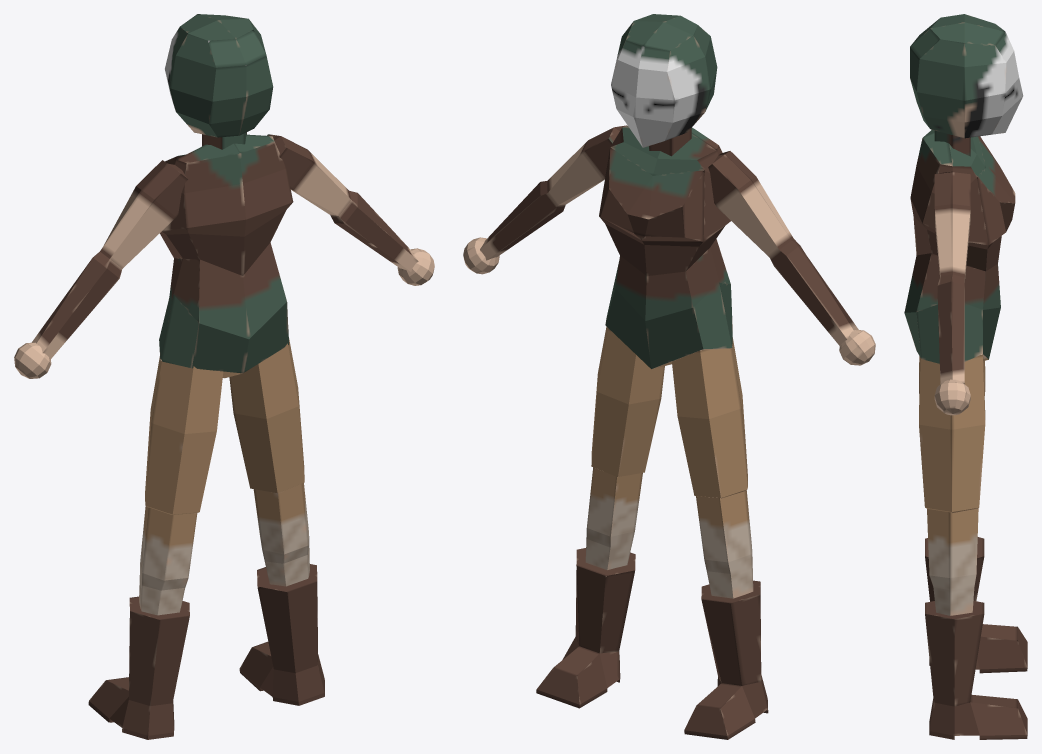
Rendered from CharacterBase.fbx.
3 renders of one model, left to right at view 1: azimuth 30°, elevation 25°; view 2: azimuth 150°, elevation 25°; view 3: azimuth 270°, elevation 25°, orthographic. The views are drawn at different scales.
Parts seen in each view (by area): view 1: Torso, Head, LeftThigh, RightThigh, LeftBoot, LeftArm, RightBoot, RightArm, LeftCalf, RightCalf, LeftHand, RightHand; view 2: Torso, Head, LeftThigh, LeftBoot, RightBoot, LeftArm, RightThigh, RightArm, LeftCalf, RightCalf, LeftHand, RightHand; view 3: Torso, Head, RightBoot, RightThigh, RightArm, RightCalf, LeftBoot, RightHand, Neck.
Part boxes in pixels (x1=…): Torso: x1=159, y1=134, x2=293, y2=378; Head: x1=165, y1=14, x2=273, y2=137; LeftThigh: x1=145, y1=356, x2=223, y2=514; RightThigh: x1=229, y1=338, x2=304, y2=493; LeftBoot: x1=88, y1=596, x2=189, y2=739; LeftArm: x1=32, y1=160, x2=187, y2=359; RightBoot: x1=239, y1=564, x2=324, y2=705; RightArm: x1=267, y1=134, x2=418, y2=271; LeftCalf: x1=139, y1=506, x2=197, y2=615; RightCalf: x1=253, y1=483, x2=309, y2=586; LeftHand: x1=14, y1=342, x2=51, y2=378; RightHand: x1=397, y1=248, x2=434, y2=285; Torso: x1=599, y1=125, x2=732, y2=368; Head: x1=611, y1=14, x2=717, y2=147; LeftThigh: x1=672, y1=337, x2=747, y2=498; LeftBoot: x1=684, y1=580, x2=768, y2=739; RightBoot: x1=536, y1=548, x2=635, y2=708; LeftArm: x1=703, y1=151, x2=858, y2=346; RightThigh: x1=591, y1=326, x2=664, y2=476; RightArm: x1=480, y1=125, x2=626, y2=260; LeftCalf: x1=696, y1=490, x2=753, y2=598; RightCalf: x1=585, y1=467, x2=642, y2=576; LeftHand: x1=839, y1=329, x2=875, y2=365; RightHand: x1=463, y1=237, x2=499, y2=274; Torso: x1=904, y1=130, x2=1015, y2=363; Head: x1=910, y1=14, x2=1023, y2=138; RightBoot: x1=925, y1=600, x2=1027, y2=739; RightThigh: x1=919, y1=354, x2=985, y2=512; RightArm: x1=934, y1=171, x2=970, y2=384; RightCalf: x1=927, y1=508, x2=978, y2=615; LeftBoot: x1=925, y1=537, x2=1027, y2=673; RightHand: x1=934, y1=379, x2=970, y2=415; Neck: x1=934, y1=130, x2=970, y2=156.
Size of the model in its own units: 121 by 193 by 31.88.
1 material, 1 textured.
